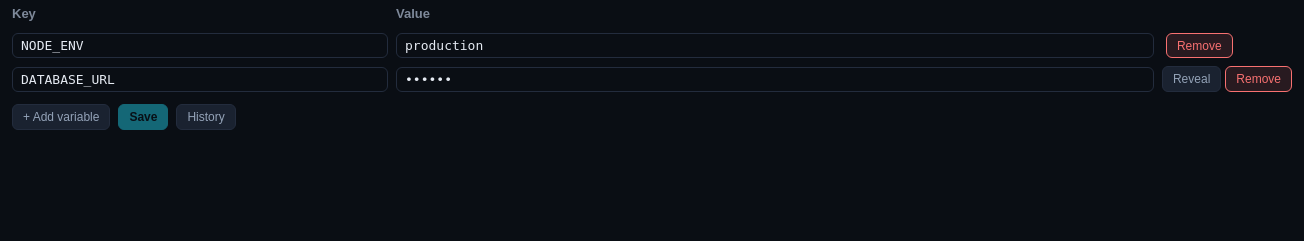
Scenario: EnvVarsPanel accessible names › rows sharing a key › names Hide buttons of two rows sharing a sensitive key per row
This screenshot has width=1304, height=241.
Check: the field named "Value of NODE_ENV" is shown, box [396,33,1154,58]
Click the button "+ Add variable" at x=61, y=117, box [12,104,110,130]
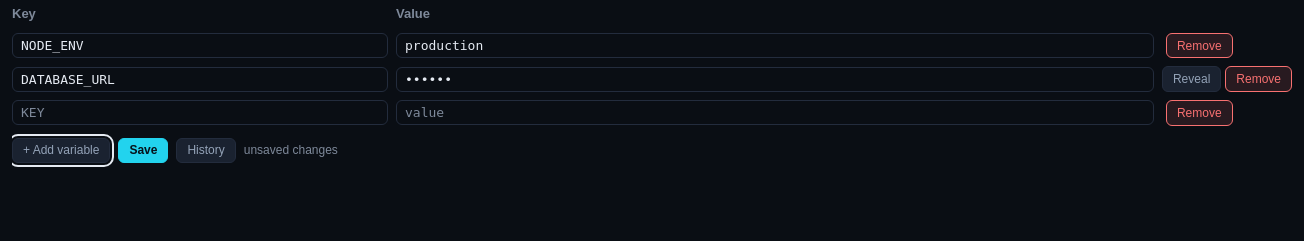
Type "API_TOKEN" into the field with placeholder "KEY" at x=200, y=113, box [12,100,388,125]
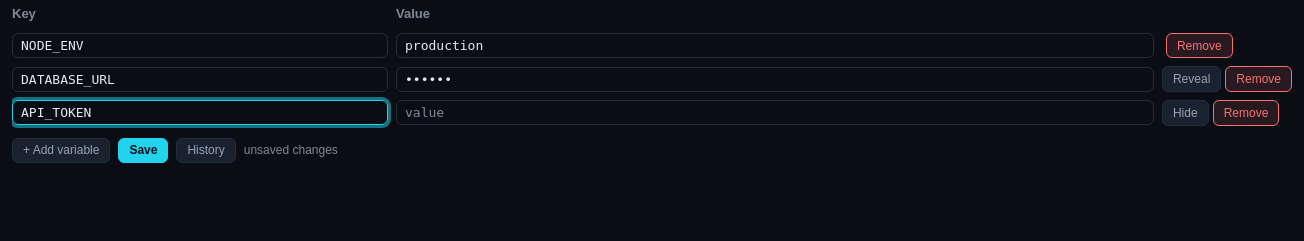
Click the button "+ Add variable" at x=61, y=150, box [12,138,110,163]
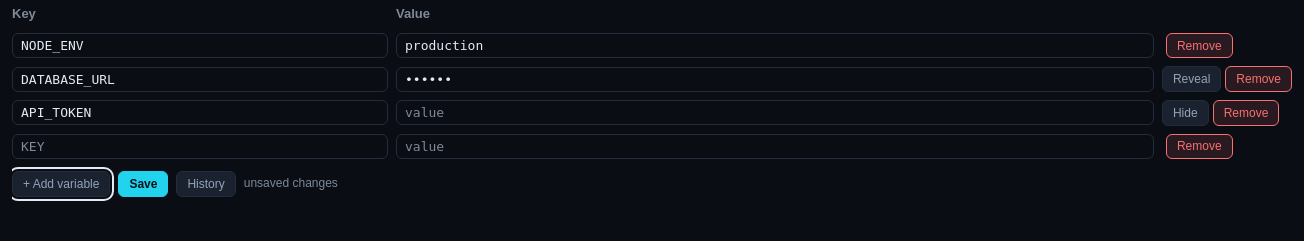
Type "API_TOKEN" into the field with placeholder "KEY" at x=200, y=146, box [12,134,388,159]
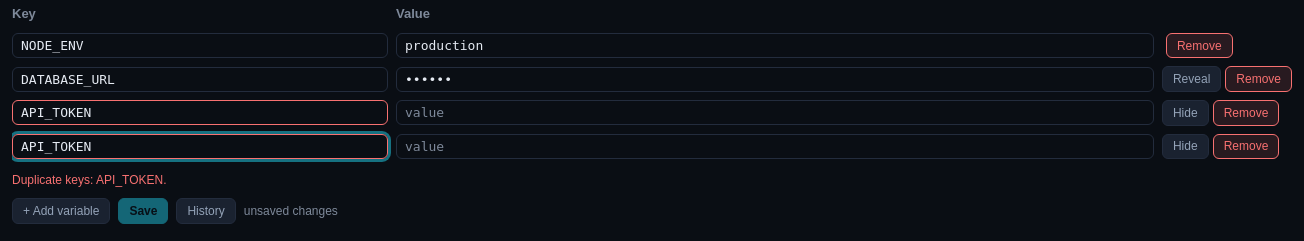
Check: the button with aria-label "Hide API_TOKEN (variable 3)" is shown, box [1162,100,1209,126]
Check: the button with aria-label "Hide API_TOKEN (variable 4)" is shown, box [1162,134,1209,159]
